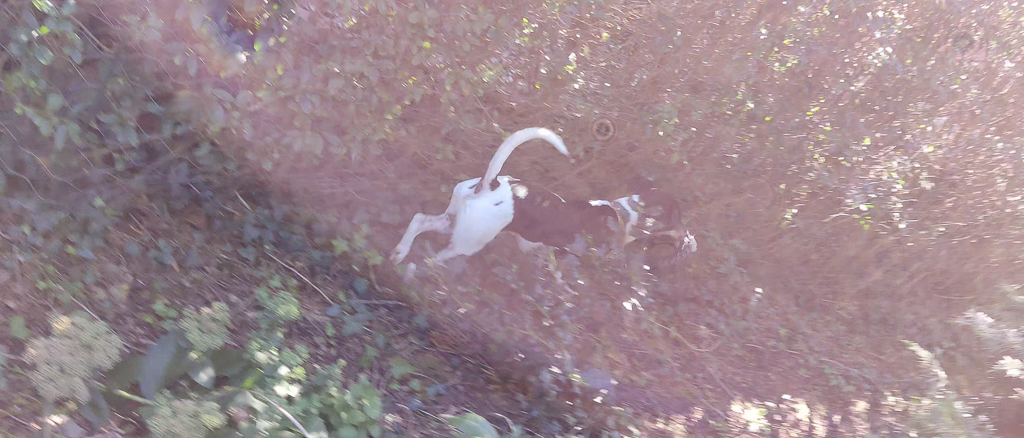Dog: (380, 123, 694, 302)
